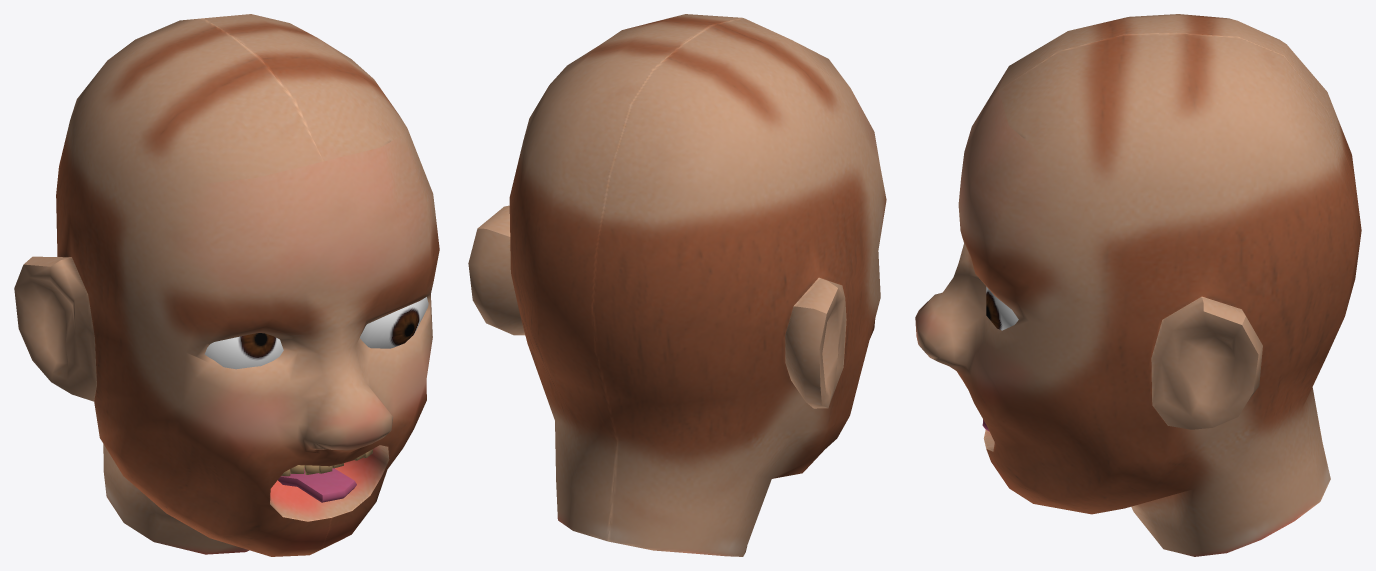
File: bebado.FBX
3 views of the same model, side by side, from view 1: azimuth 30°, elevation 25°; view 2: azimuth 150°, elevation 25°; view 3: azimuth 270°, elevation 25° (orthographic).
Parts seen in each view (by area): view 1: bebado; view 2: bebado; view 3: bebado.
Boxes of the visible parts, bbox=[...] form: bebado: bbox=[14, 14, 439, 556]; bebado: bbox=[468, 14, 886, 556]; bebado: bbox=[915, 14, 1361, 556].
Bounding box in the file's own units: 18.72 × 25.35 × 20.47.
